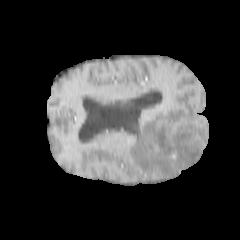glioma: (127, 109, 200, 176)
